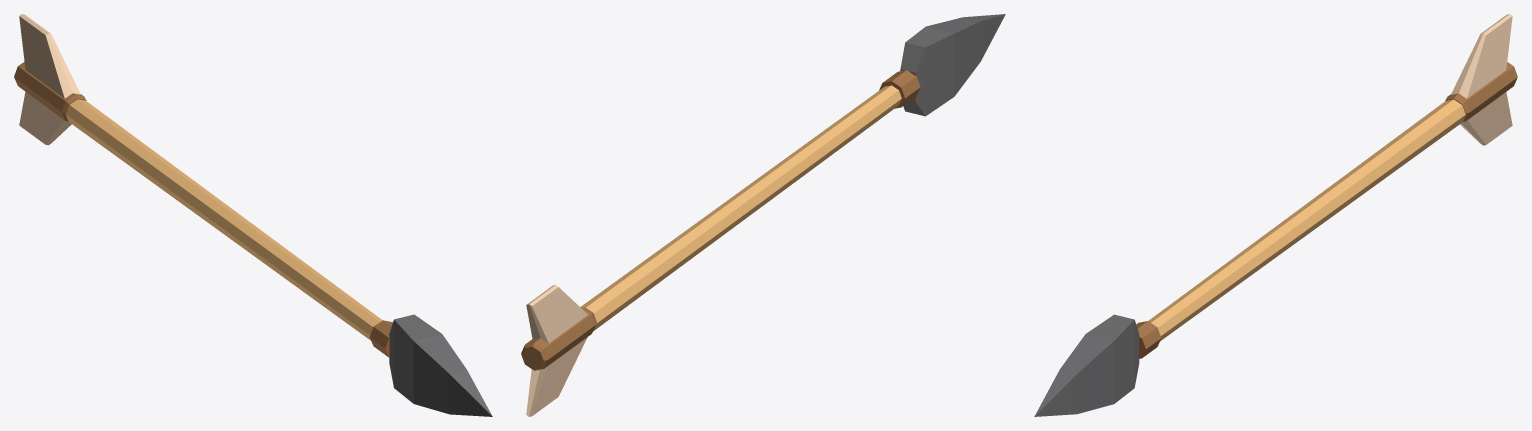
Rendered from Arrow.fbx.
3 views of the same model, side by side, from view 1: azimuth 30°, elevation 25°; view 2: azimuth 150°, elevation 25°; view 3: azimuth 330°, elevation 25° (orthographic).
Parts seen in each view (by area): view 1: Arrow; view 2: Arrow; view 3: Arrow.
Boxes of the visible parts, x1,y1,x2,y2 form: Arrow: [14, 14, 492, 416]; Arrow: [521, 14, 1005, 416]; Arrow: [1034, 14, 1517, 416].
Bounding box in the file's own units: 0.0999 × 0.3671 × 2.81.
